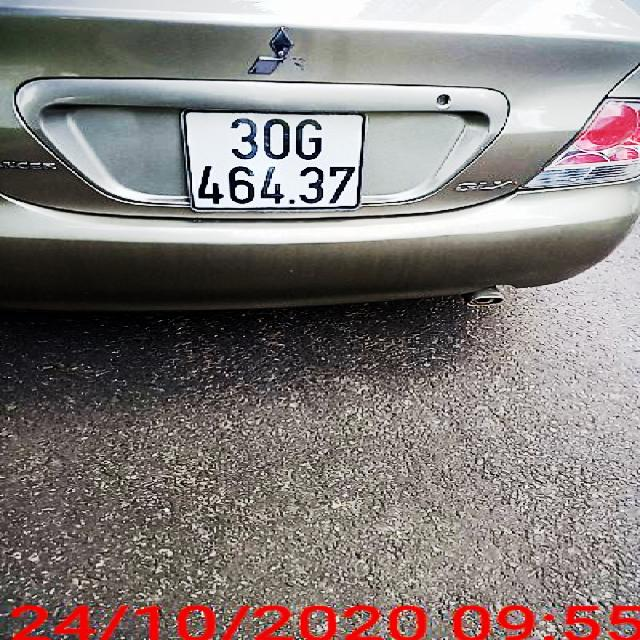license_plate: (183, 110, 372, 209)
